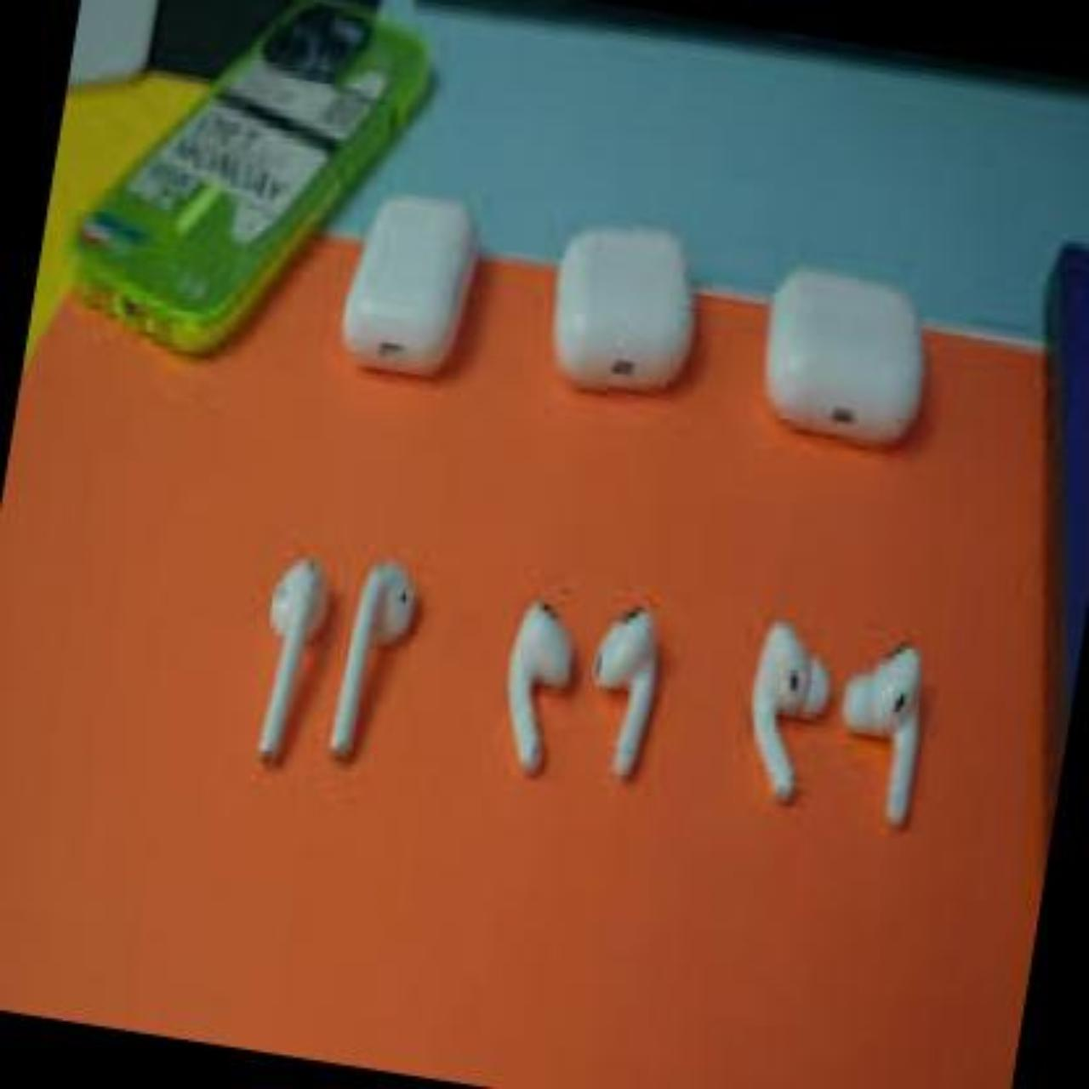Airpods_Units: (220, 550, 333, 791), (824, 627, 941, 839), (486, 579, 588, 808), (733, 614, 843, 826), (575, 580, 679, 797), (323, 554, 422, 781)
